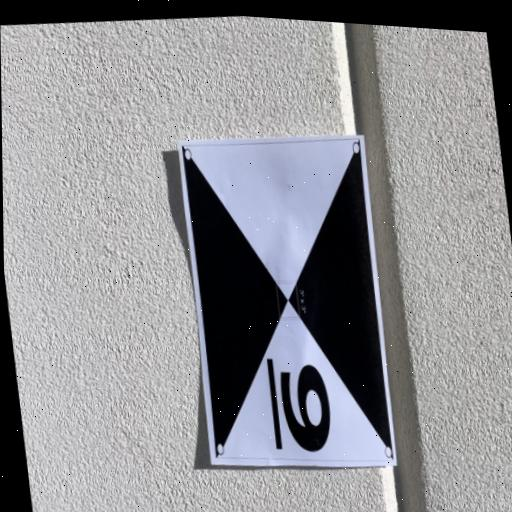target9: (178, 133, 397, 467)
